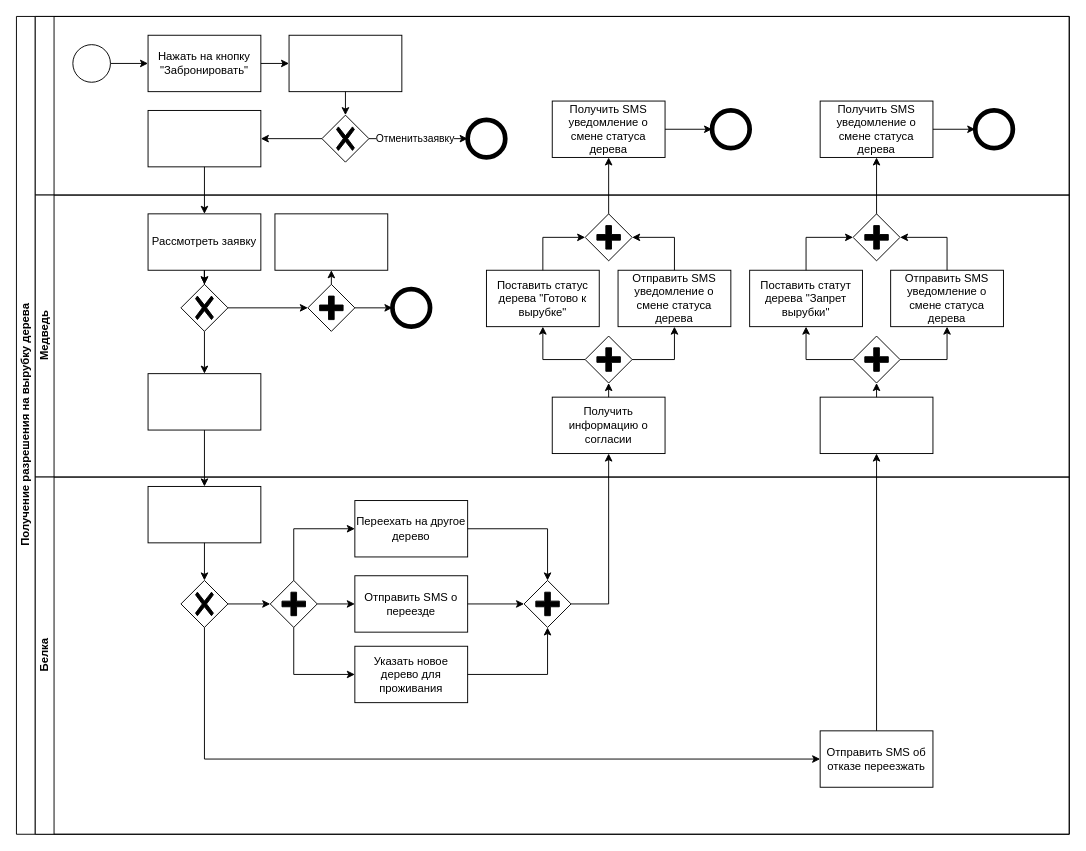
Some shapes in this 1086 by 851 pixel diagram are drawn without their labels. The shapes that lost their labels are listed below. From the top down, each one's box as (x1, y1, x2, y2) in pixels, then its label:
(288, 34, 402, 92): Заполнить форму заявки
(34, 16, 1069, 195): Бобер
(147, 110, 261, 167): Нажать на кнопку "Отправить"
(274, 213, 388, 270): Отправить SMS о неверном заполнении заявки
(147, 373, 261, 430): Отправить SMS оповещение о выселении
(819, 396, 933, 454): Получить информацию об отказе
(147, 486, 261, 543): Получить SMS оповещение о выселении
